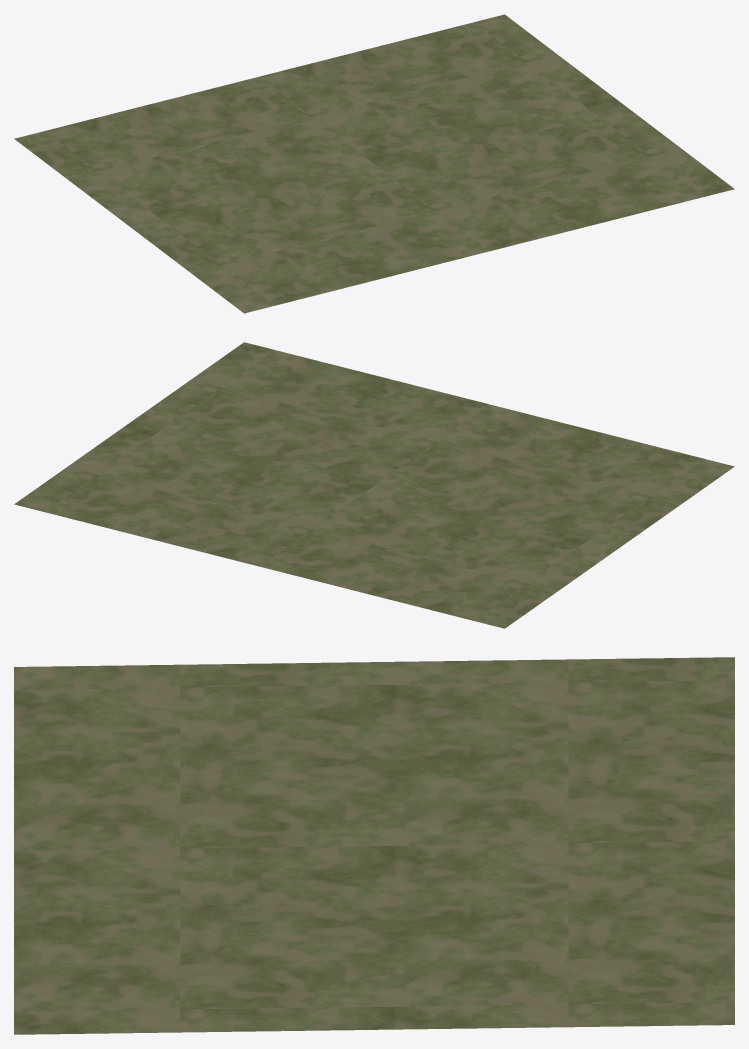
3 views of the same model, one above another, from view 1: azimuth 30°, elevation 25°; view 2: azimuth 150°, elevation 25°; view 3: azimuth 270°, elevation 25° (orthographic). The views are drawn at different scales.
Size of the model in its own units: 16 by 0.339 by 13.
Materials: 1 (1 with a texture image).
